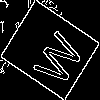W: (25, 24, 86, 89)
